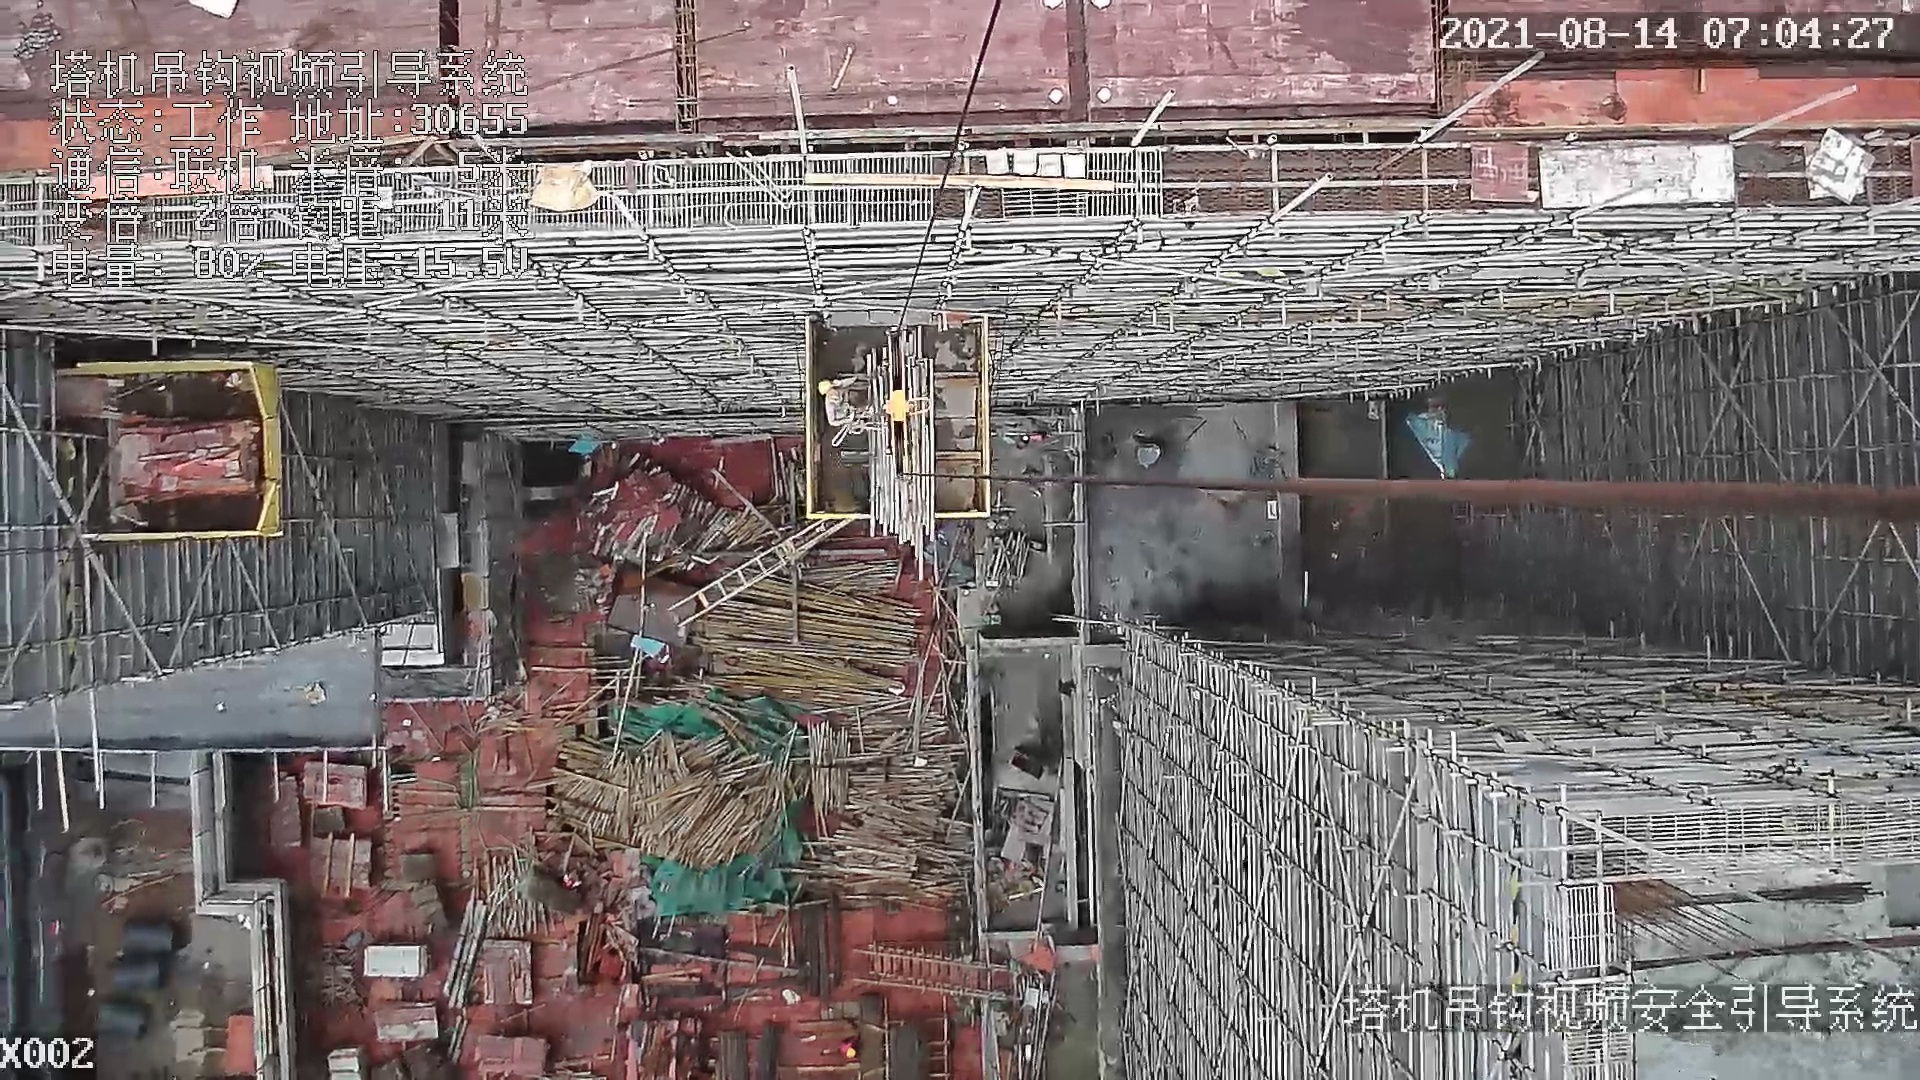hook: (886, 324, 924, 515)
person: (818, 380, 858, 431)
